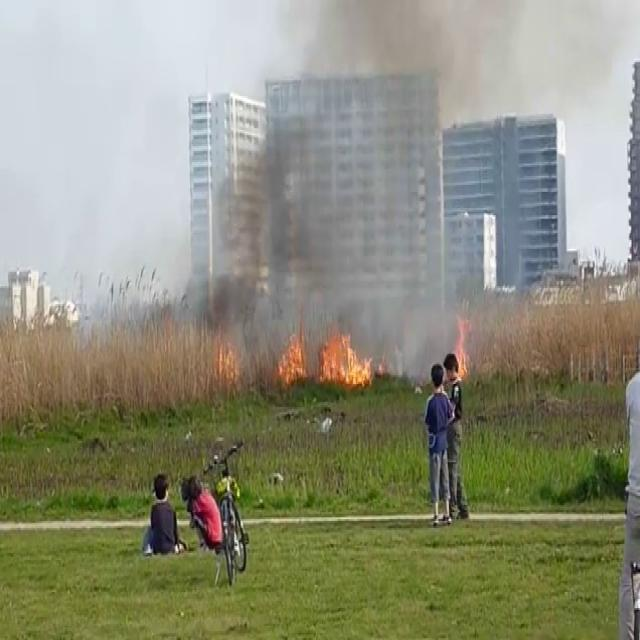Fire: (318, 317, 376, 394), (276, 311, 310, 389), (208, 318, 244, 390), (451, 308, 474, 386)
Smoke: (203, 0, 482, 355)
